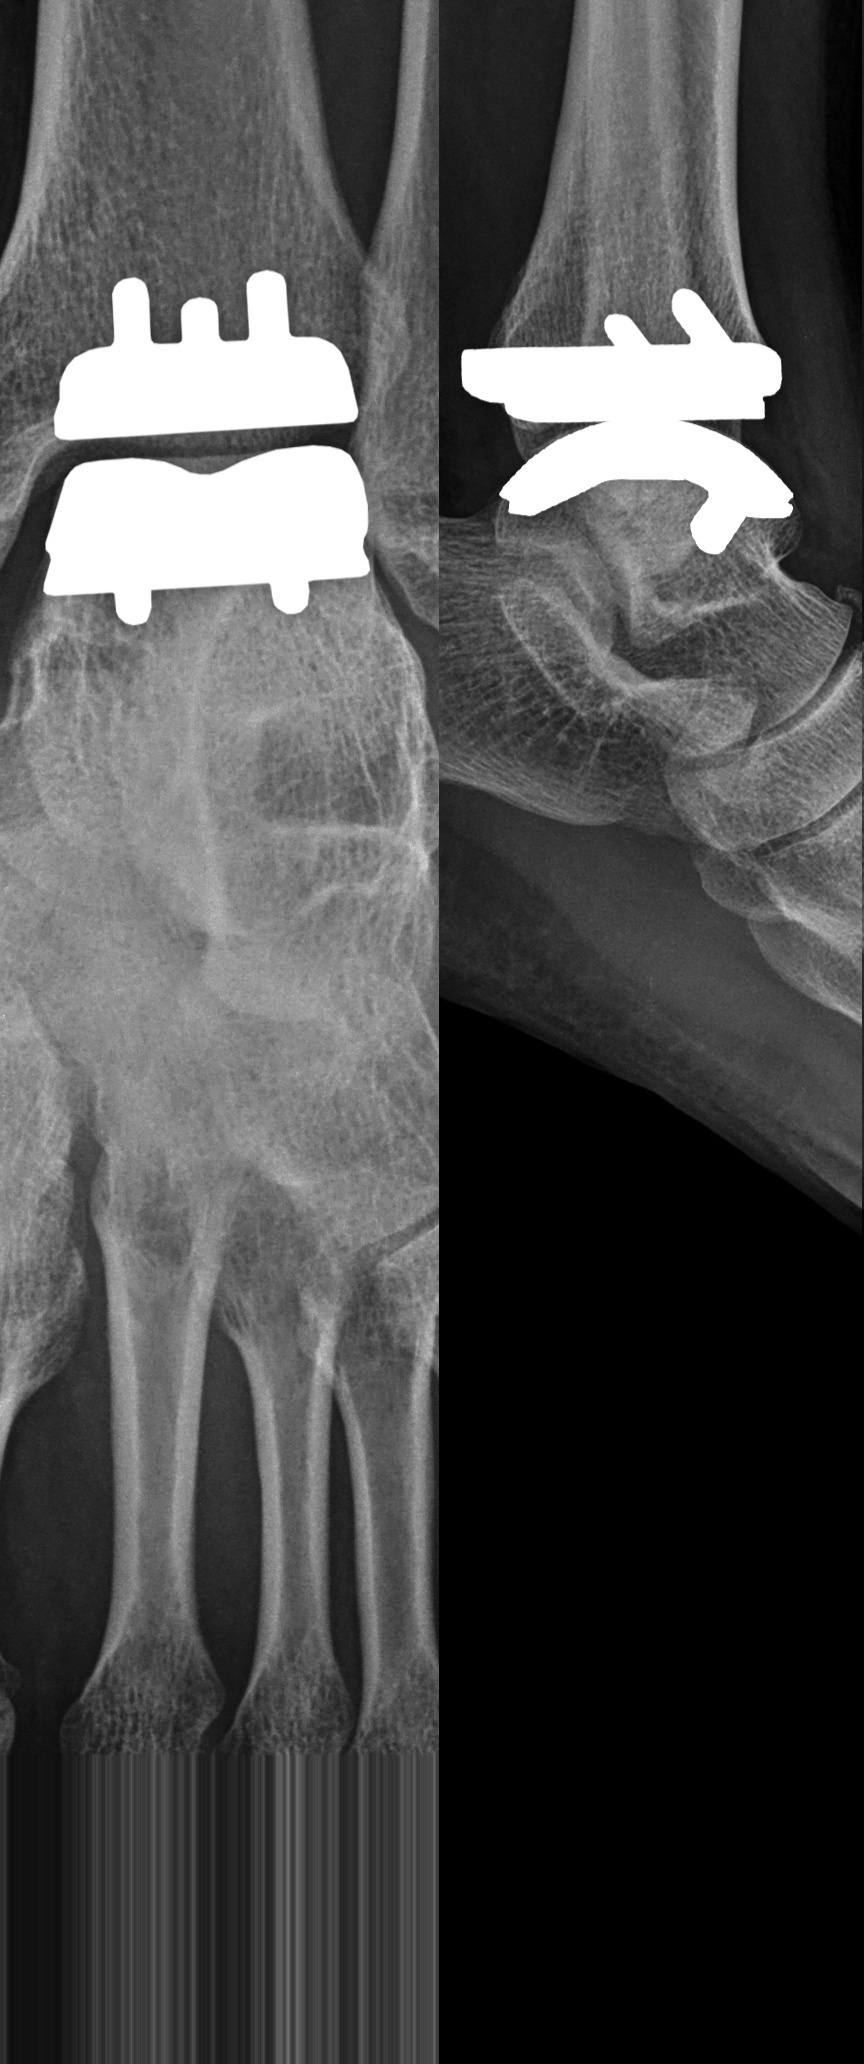Ankle - Infinity - Wright: (22, 263, 396, 637), (448, 274, 822, 563)
